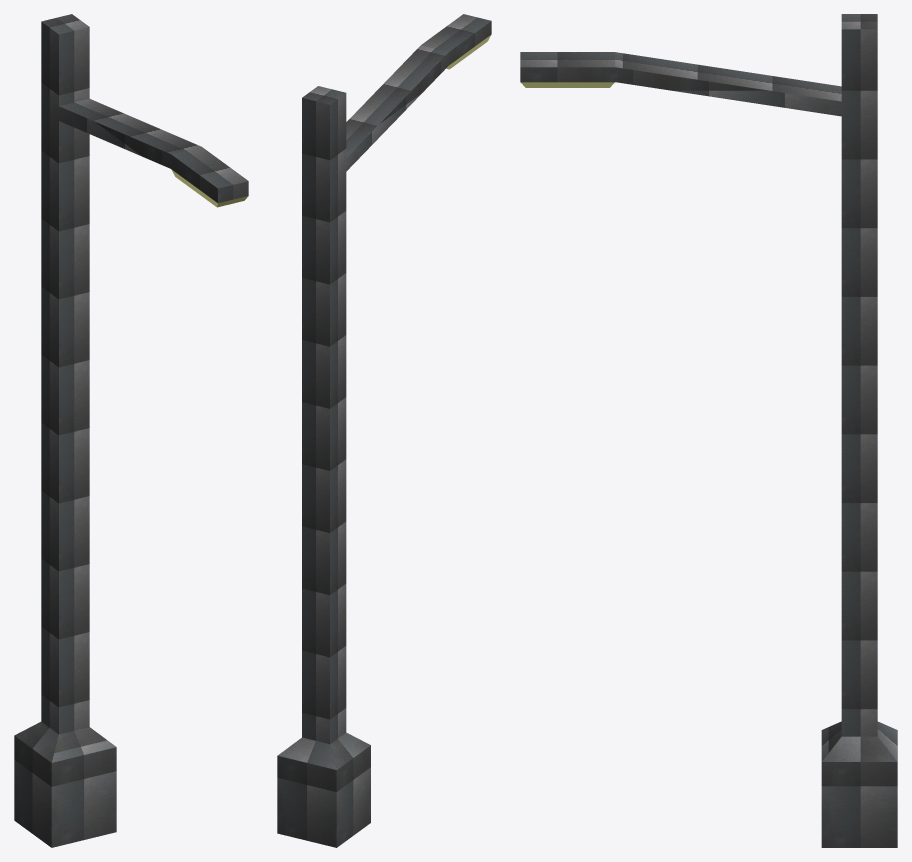
Rendered from LampPost.obj.
The picture shows the model from 3 angles, left to right: view 1: azimuth 30°, elevation 25°; view 2: azimuth 150°, elevation 25°; view 3: azimuth 270°, elevation 25°; orthographic projection. The views are drawn at different scales.
Visible parts, largest first — view 1: LampPost; view 2: LampPost; view 3: LampPost.
Boxes of the visible parts, box(x1,y1,x2,y2) form: LampPost: box(14, 14, 248, 847); LampPost: box(277, 14, 491, 847); LampPost: box(520, 14, 897, 847).
Size of the model in its own units: 1 by 11.79 by 4.98.
2 materials, 1 textured.
